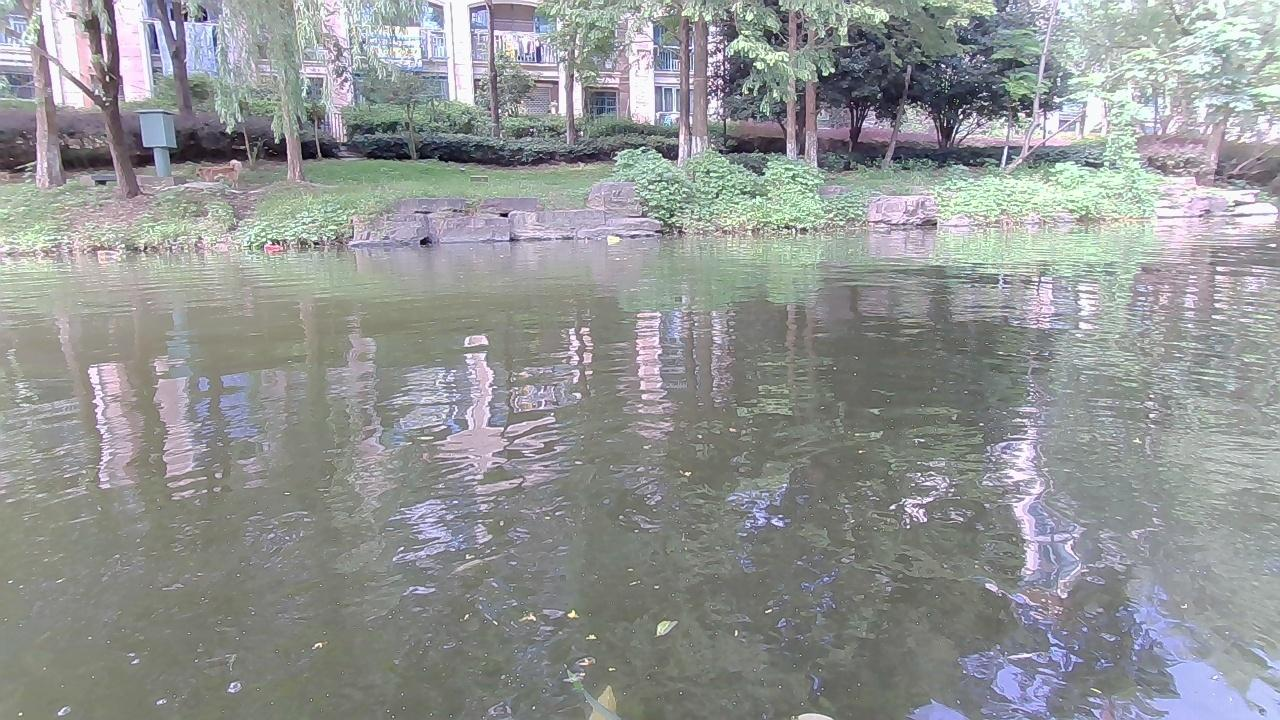bottle: (265, 243, 288, 255), (603, 234, 625, 244)
